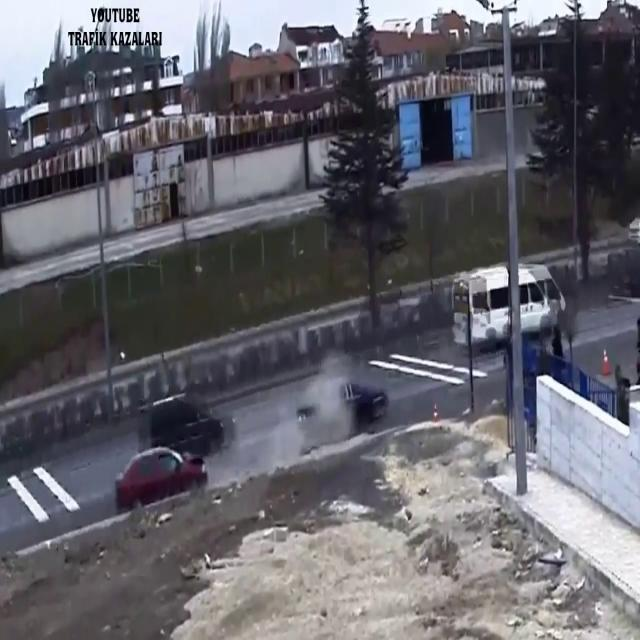accident: (296, 375, 390, 446)
